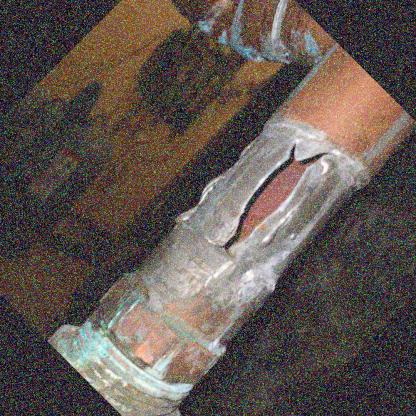burst: (216, 142, 335, 261)
